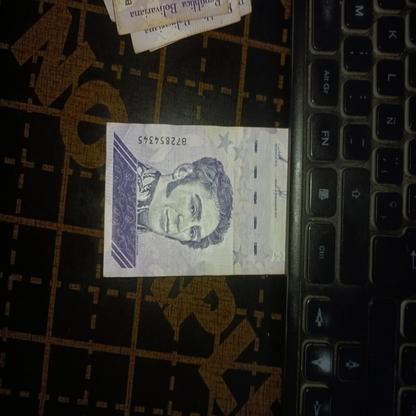ten-front-vef: (138, 104, 293, 287)
